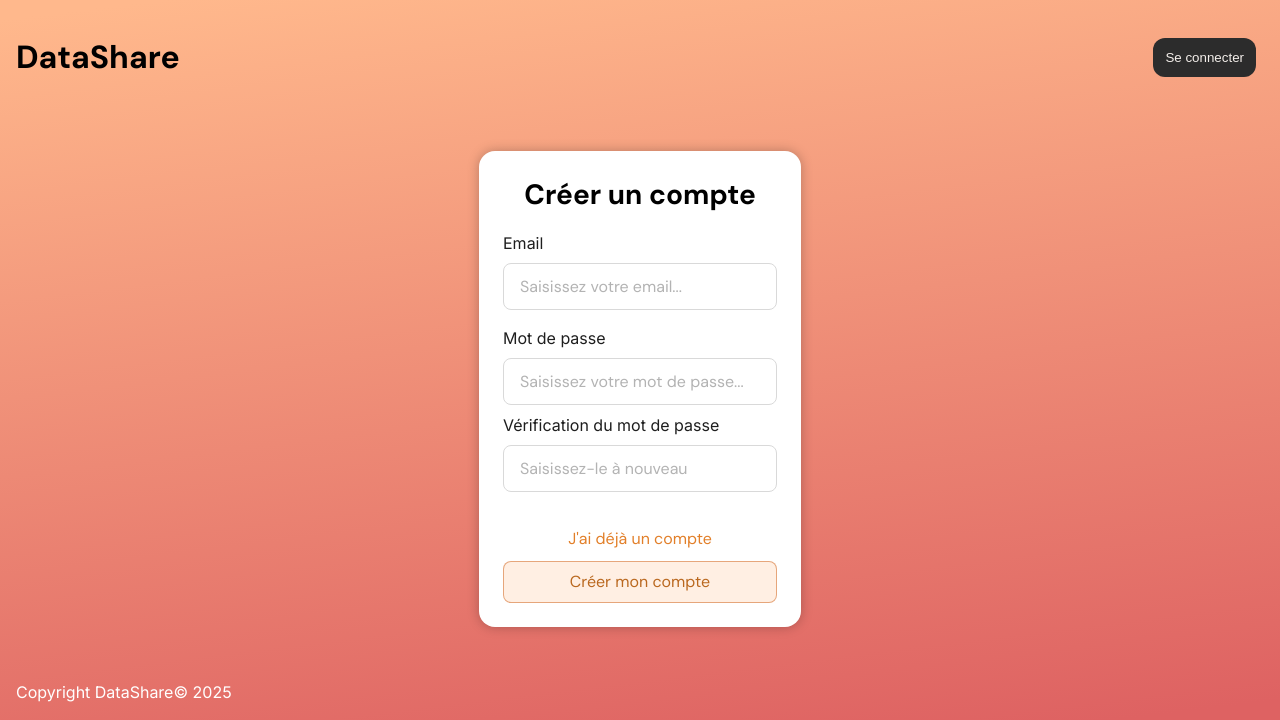
Test: Register tests › Register new user without datas should display an error
The width and height of the screenshot is (1280, 720).
Click the button with test id "register-button-submit".
click(640, 582)  # box [503,561,777,603]
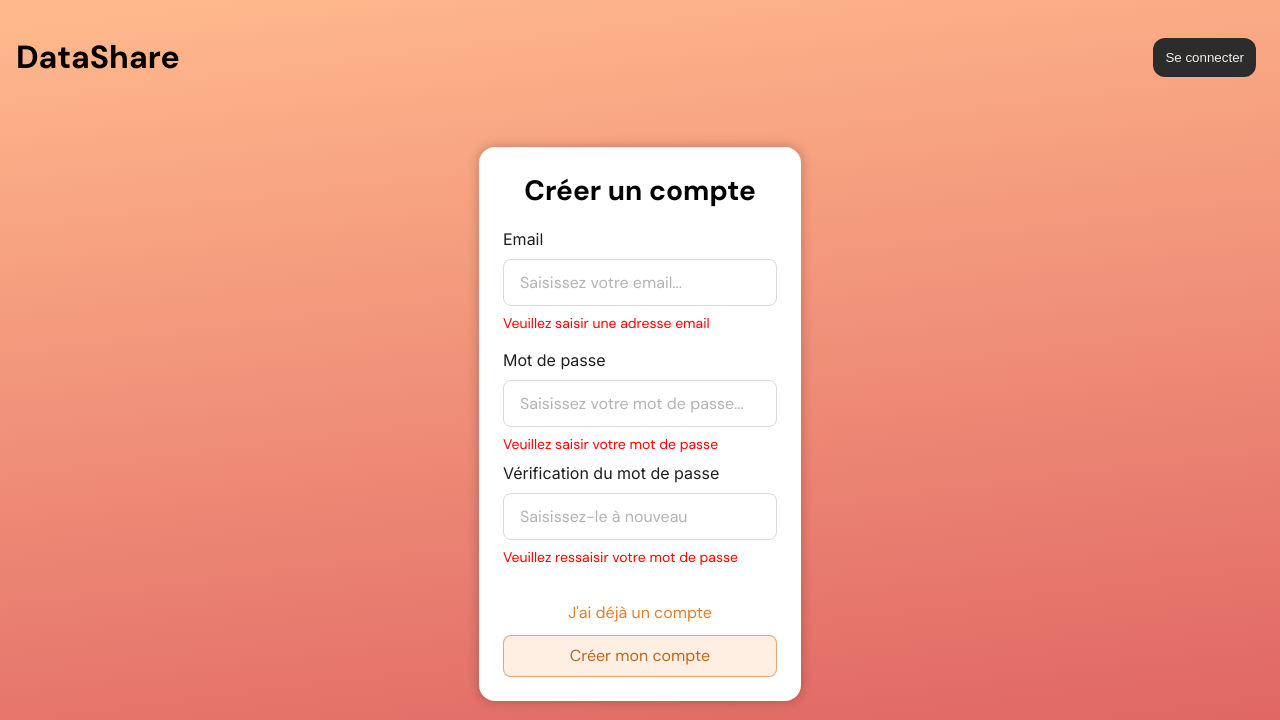
Check: the element with test id "invalid-feedback-email" reads "Veuillez saisir une adresse email", box [503,314,710,332]
Check: the element with test id "invalid-feedback-password" reads "Veuillez saisir votre mot de passe", box [503,435,718,453]
Check: the element with test id "invalid-feedback-confirmPassword" reads "Veuillez ressaisir votre mot de passe", box [503,548,738,566]
